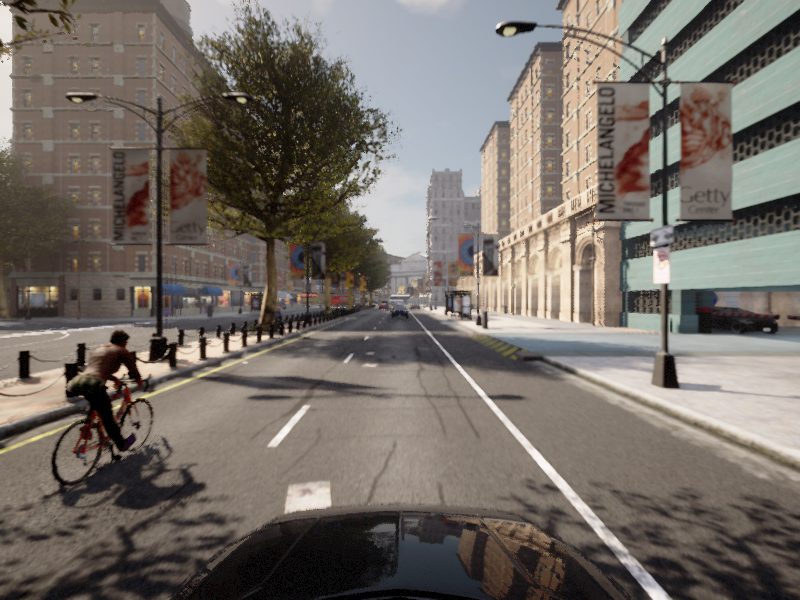vehicle: (22, 327, 173, 499), (270, 303, 284, 321), (391, 305, 408, 318), (263, 303, 276, 317)
